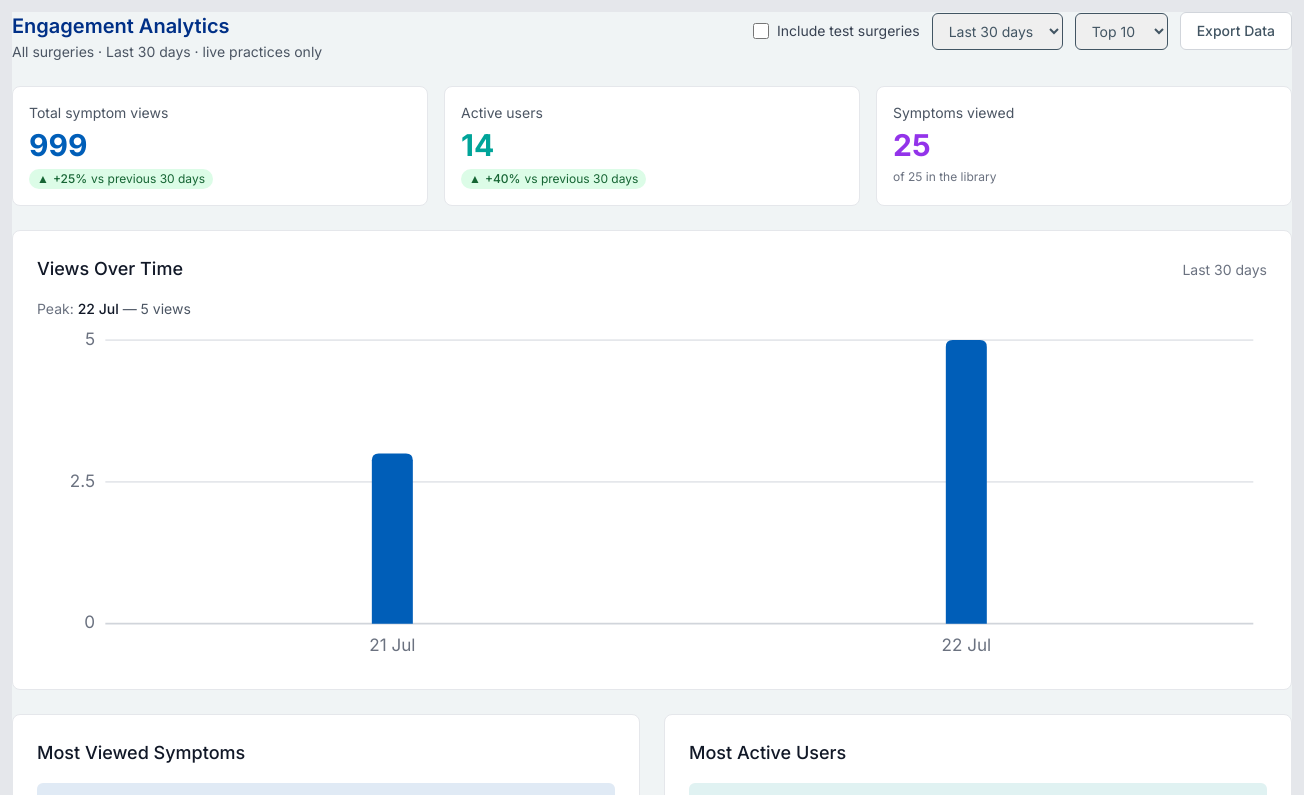
EngagementAnalytics › states its own scope, period and practice-type
Expected: the text "All surgeries · Last 30 days · live practices only" is shown, [12, 42, 322, 62]
Step 1. Click the checkbox labelled "Include test surgeries" → click(761, 31), box [753, 23, 769, 39]
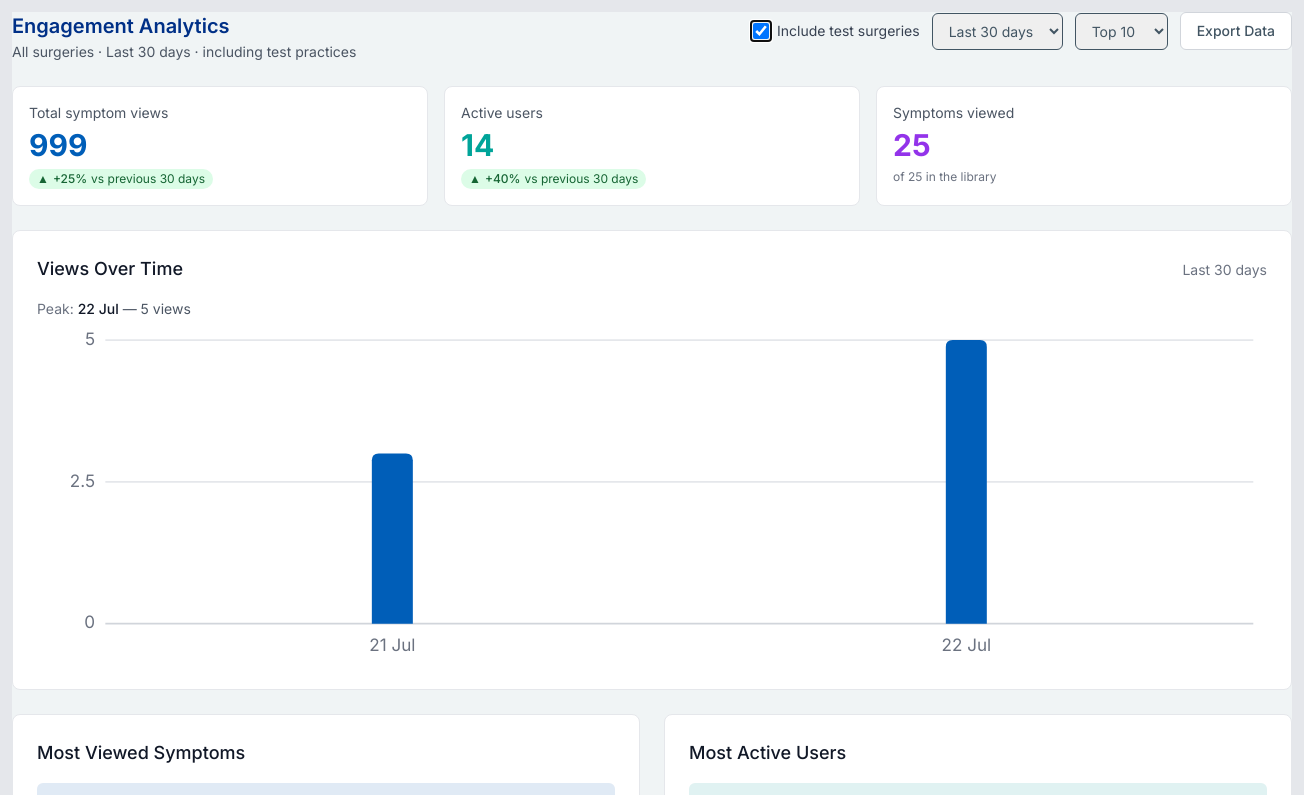
Expected: the text "All surgeries · Last 30 days · including test practices" is shown, [12, 42, 356, 62]
